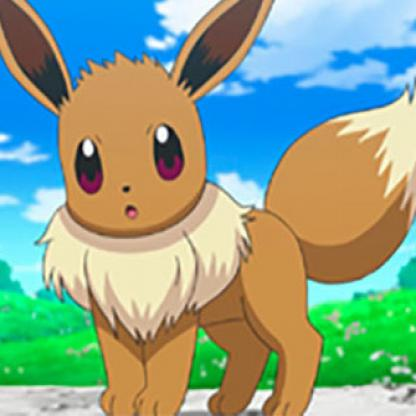Eevee: (1, 1, 409, 416)
